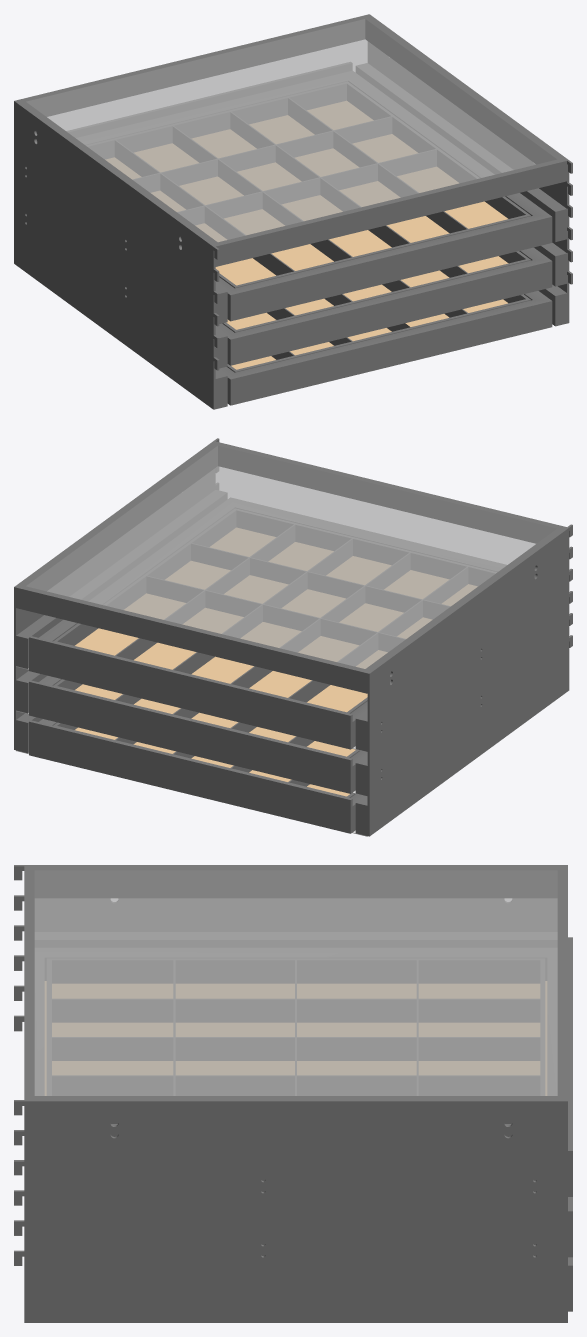
The picture shows the model from 3 angles, top to bottom: view 1: azimuth 30°, elevation 25°; view 2: azimuth 150°, elevation 25°; view 3: azimuth 270°, elevation 25°; orthographic projection. The views are drawn at different scales.
Parts seen in each view (by area): view 1: Geom3D (×7); view 2: Geom3D (×7); view 3: Geom3D (×3).
Boxes of the visible parts, x1,y1,x2,y2 form: Geom3D (×7): [14, 14, 572, 409]; Geom3D (×7): [14, 438, 572, 836]; Geom3D (×3): [14, 865, 572, 1322].
Size of the model in its own units: 0.545 by 0.2394 by 0.545.
